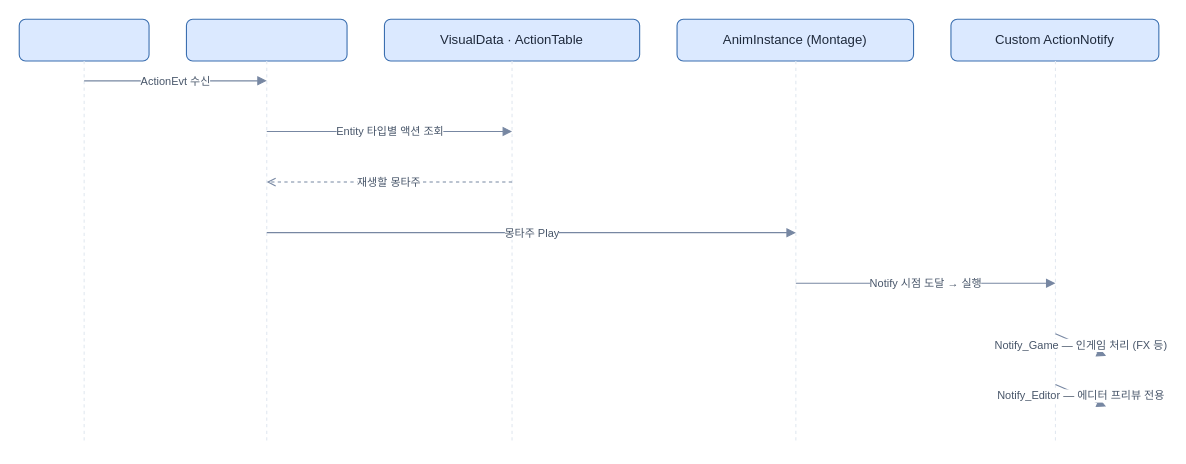
This 1186x464 diagram has some shape labels left out. The shapes that lost their labels are listed below. From the top down, each one's box as (x1, y1, x2, y2) in pixels, then its label:
(18, 18, 149, 61): 서버
(185, 18, 347, 61): Entity (액션 처리)
